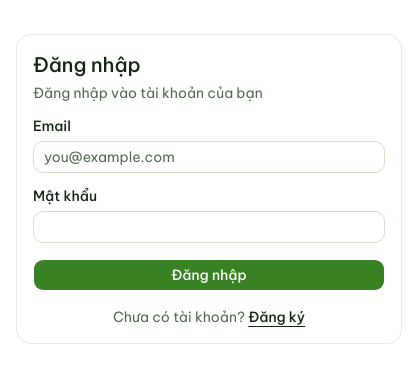
Test: LoginPage › displays customer-only rejection alert when non-customer login is denied
This screenshot has width=419, height=379.
Type "admin@example.com" into the field labelled "Email". click: point(209, 157)
box: [33, 141, 385, 173]
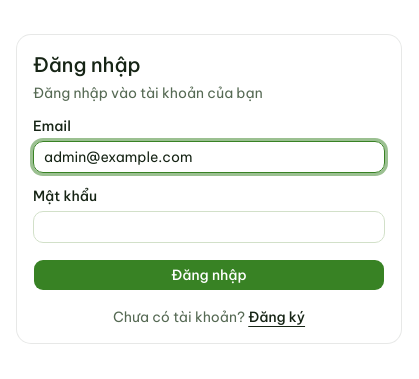
Type "AdminPassword123!" into the password field labelled "Mật khẩu". click: point(209, 227)
box: [33, 211, 385, 243]
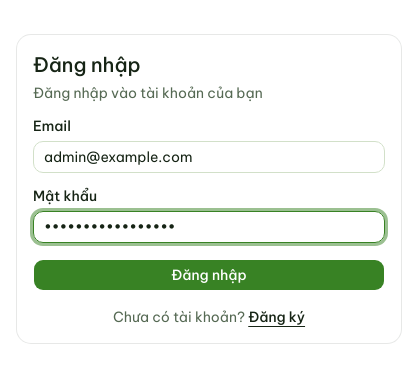
Click the button "Đăng nhập". click: point(209, 275)
box: [33, 259, 385, 291]
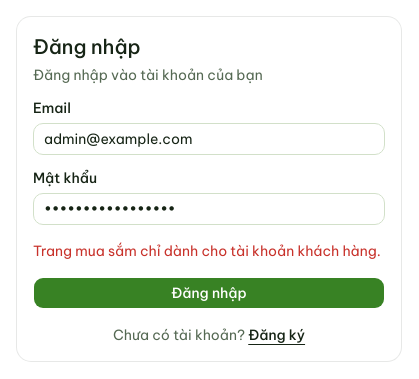
Expected: the message reads "Trang mua sắm chỉ dành cho tài khoản khách hàng.", [33, 242, 381, 260]
